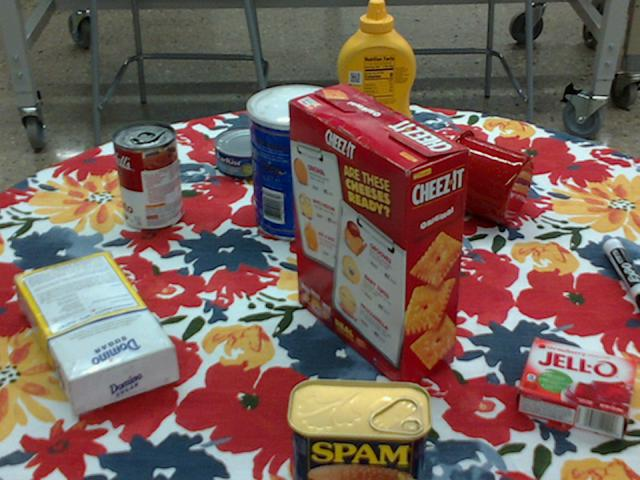cracker_box: (287, 86, 466, 391)
gelatin_box: (514, 337, 635, 435)
large_marker: (603, 236, 639, 309)
master_chef_can: (247, 84, 344, 241)
mug: (435, 130, 532, 223)
mustard_bottle: (336, 0, 414, 158)
potted_meat_can: (284, 381, 430, 479)
sugar_box: (16, 255, 177, 412)
tomato_soup_can: (112, 122, 182, 231)
tuna_fish_can: (215, 125, 284, 178)
